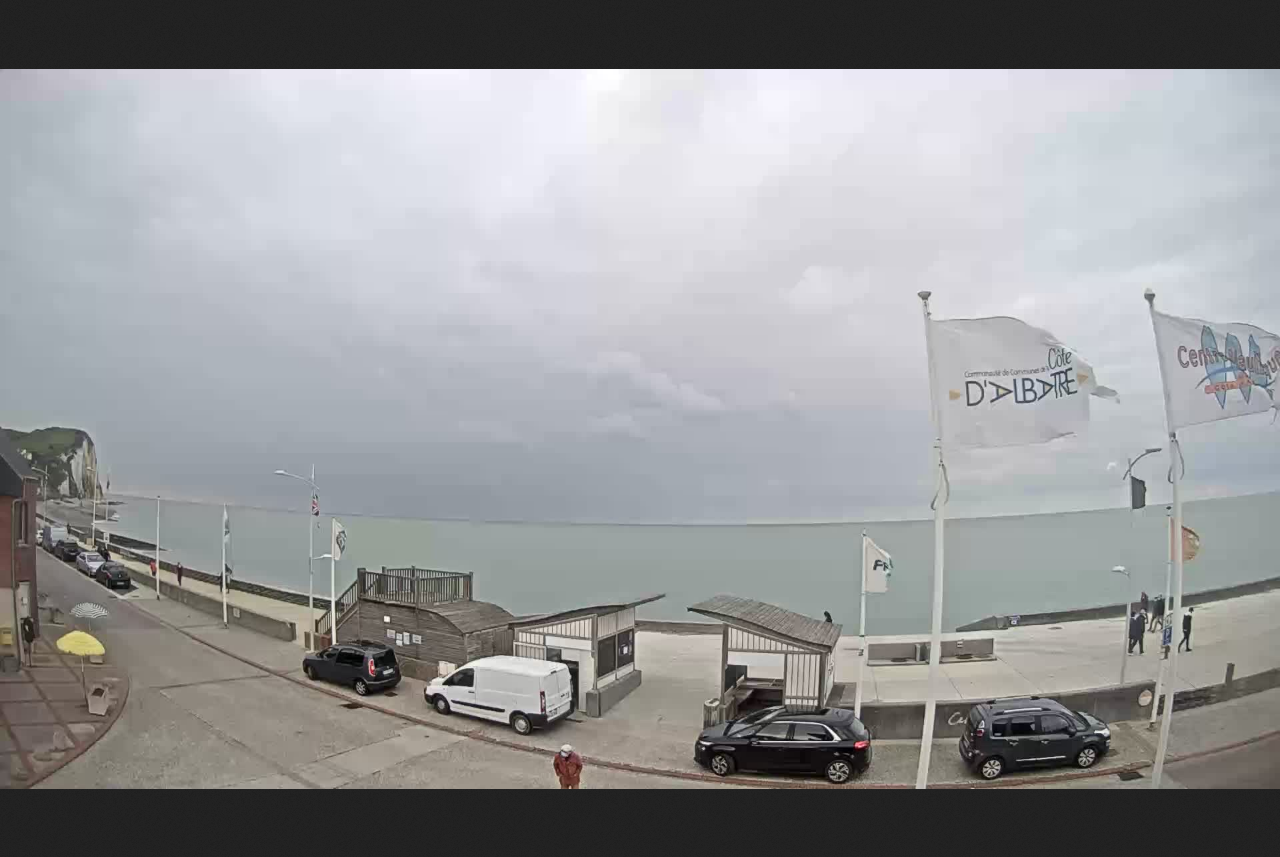yes: (922, 316, 1120, 452), (1149, 304, 1280, 430)
